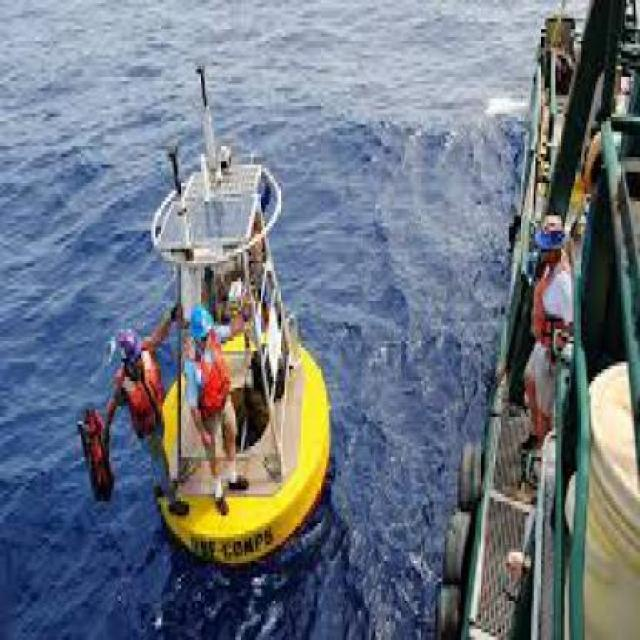buoy: (139, 56, 342, 576)
